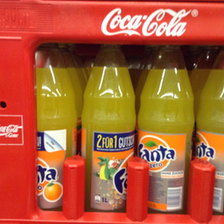soda: (136, 45, 195, 213), (81, 45, 137, 212), (36, 43, 76, 211), (196, 46, 224, 214)
